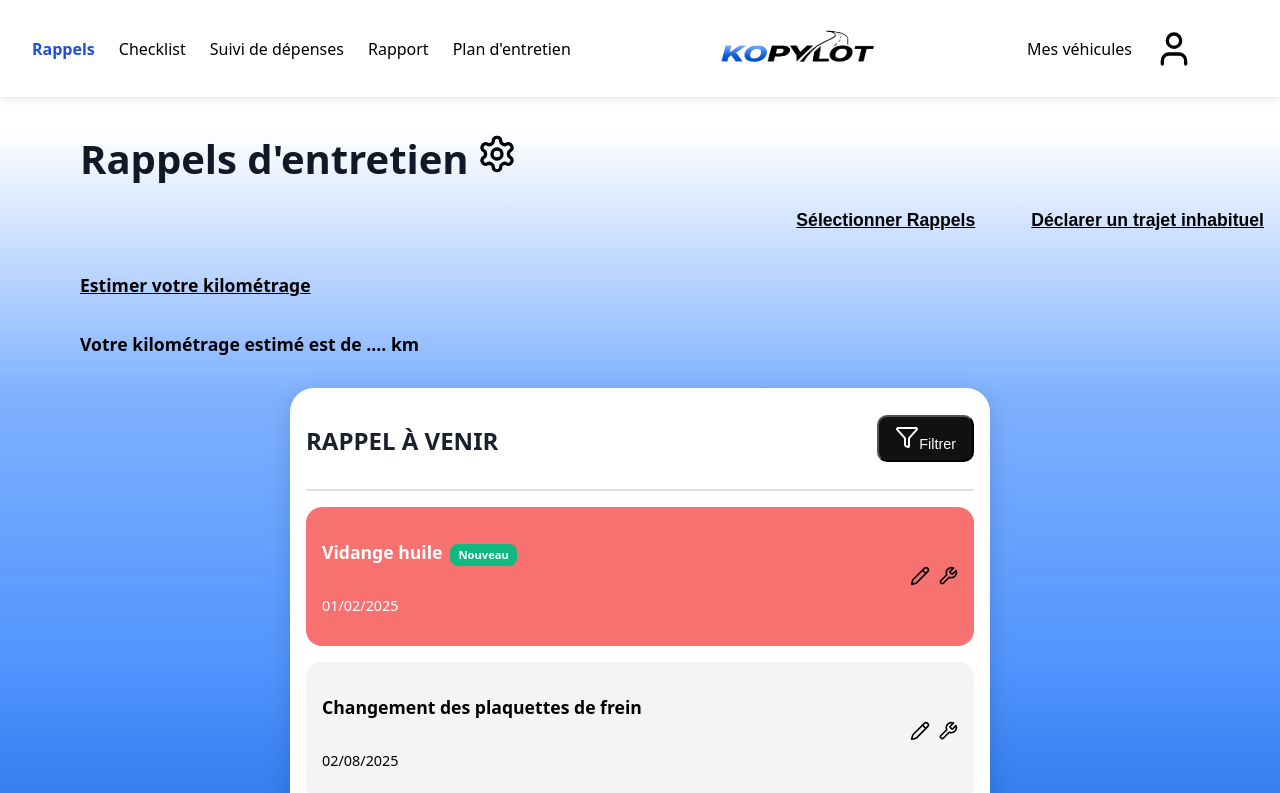
it: RappelsPage - Couverture complète › ouvre le formulaire de sélection de rappels, sélectionne un rappel, enregistre
This screenshot has width=1280, height=793.
Click the button "Sélectionner Rappels". click: coordinates (886, 221)
box: [780,202,991,239]
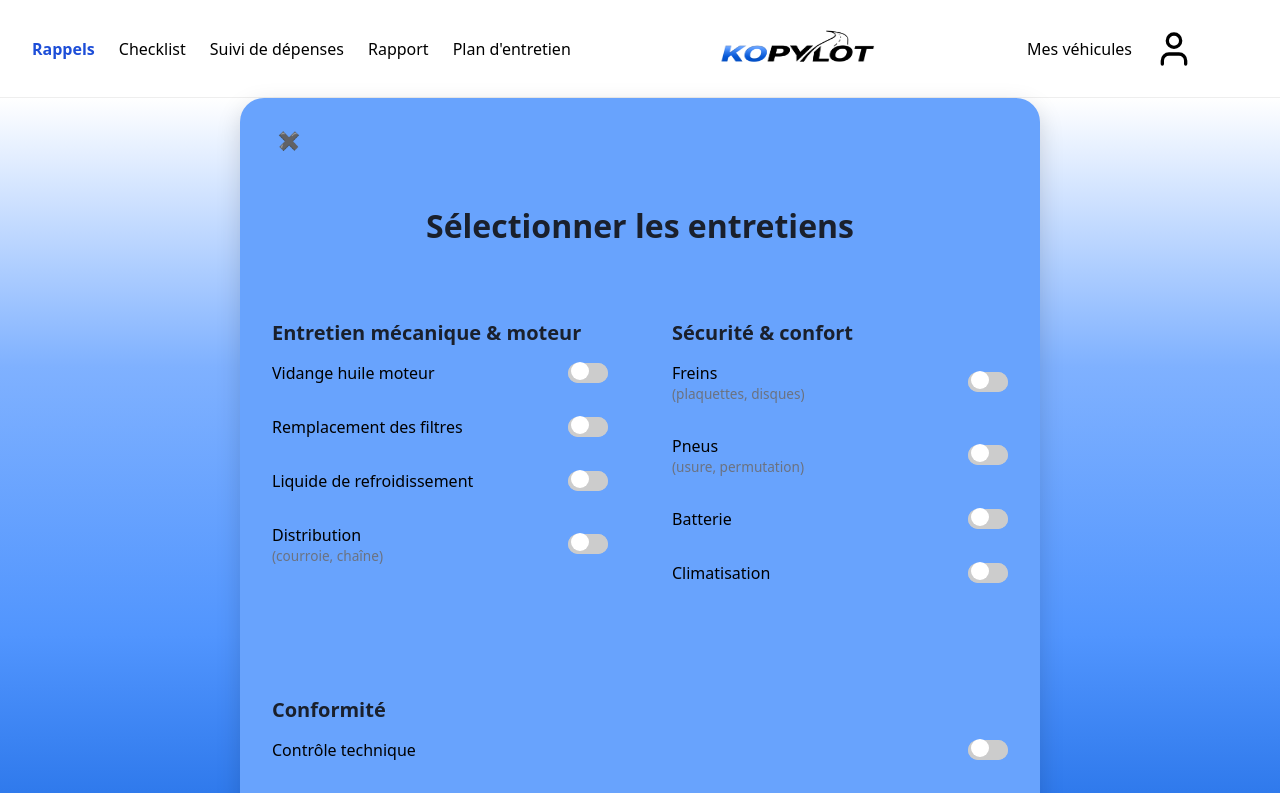
Expected: the heading "Sélectionner les entretiens" is shown, [426,204,854,246]
Check the checkbox next to "Vidange huile moteur". click: coordinates (588, 373)
box: [568,363,608,383]
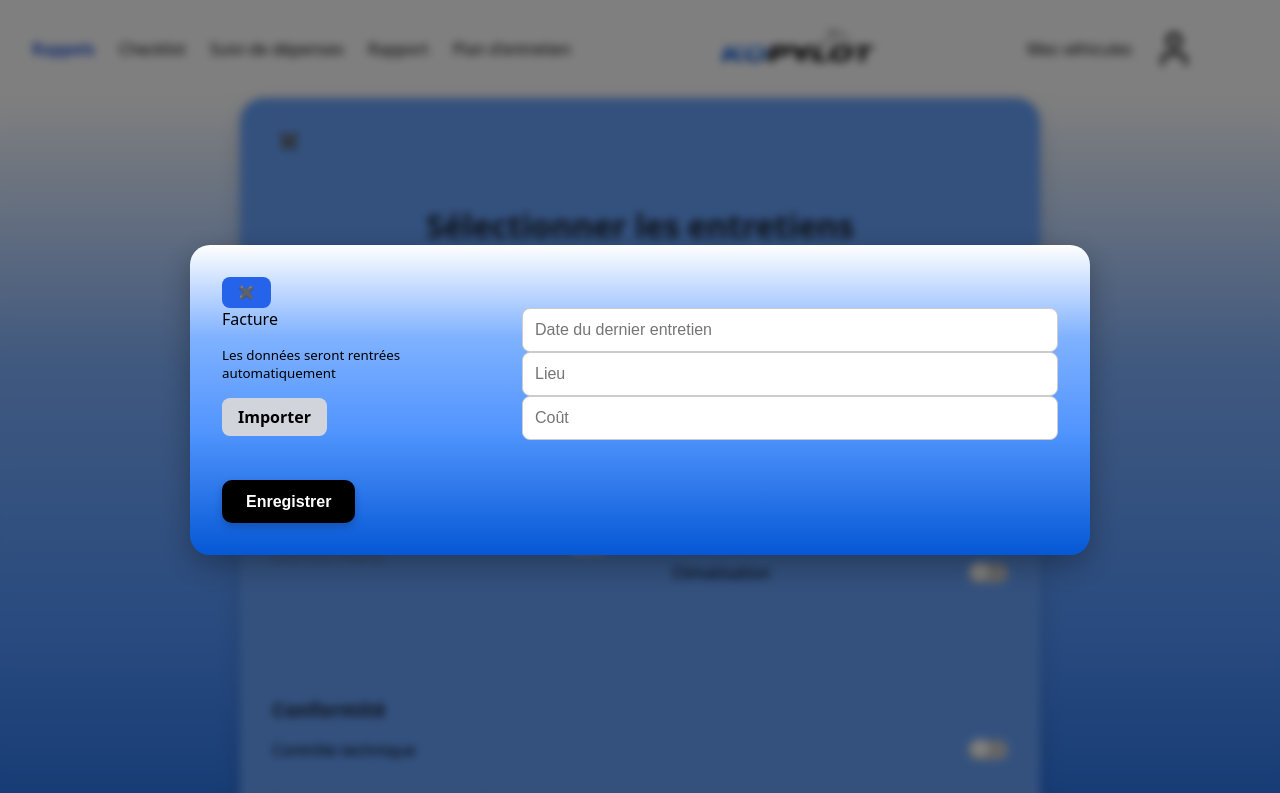
Click the button with test id "enregistrer-rappels". click: coordinates (289, 502)
box: [222,480,355,524]
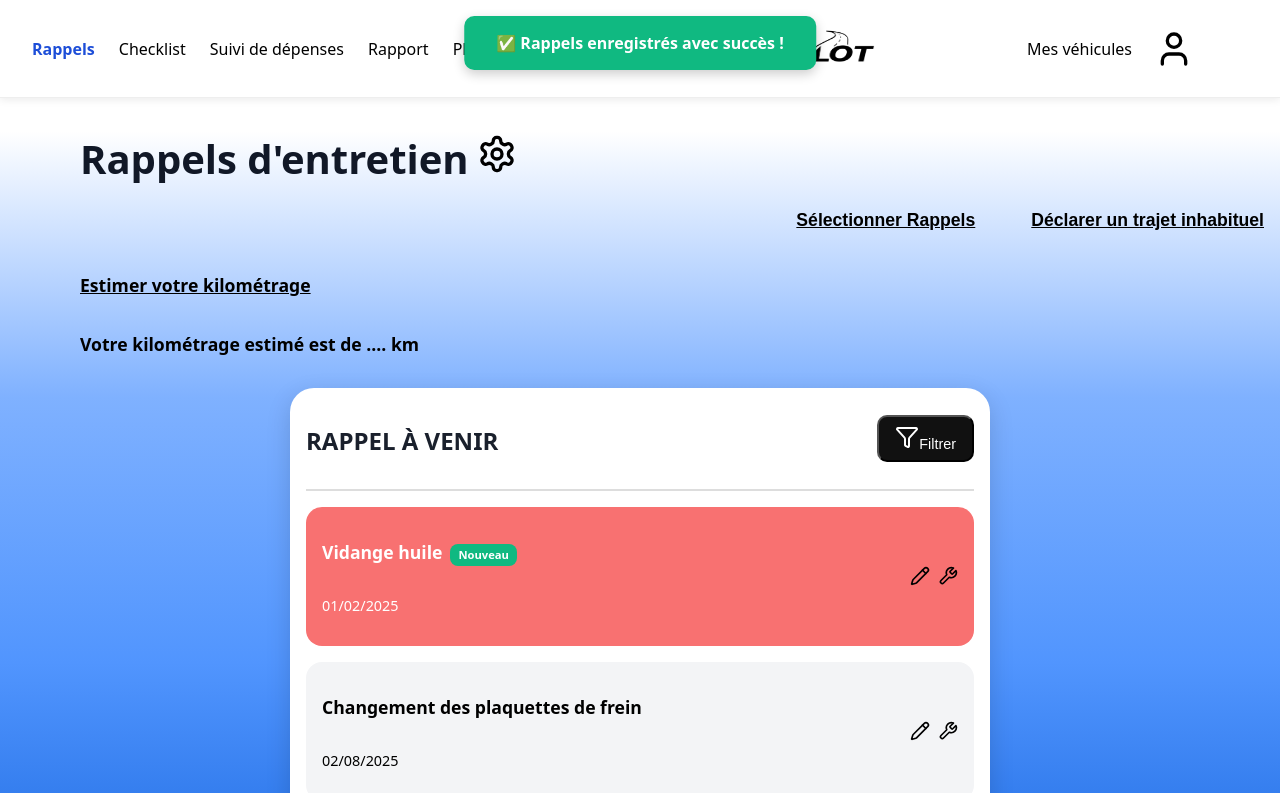
Expected: the text "Rappels enregistrés avec succès" is shown, [496,32,784,54]
